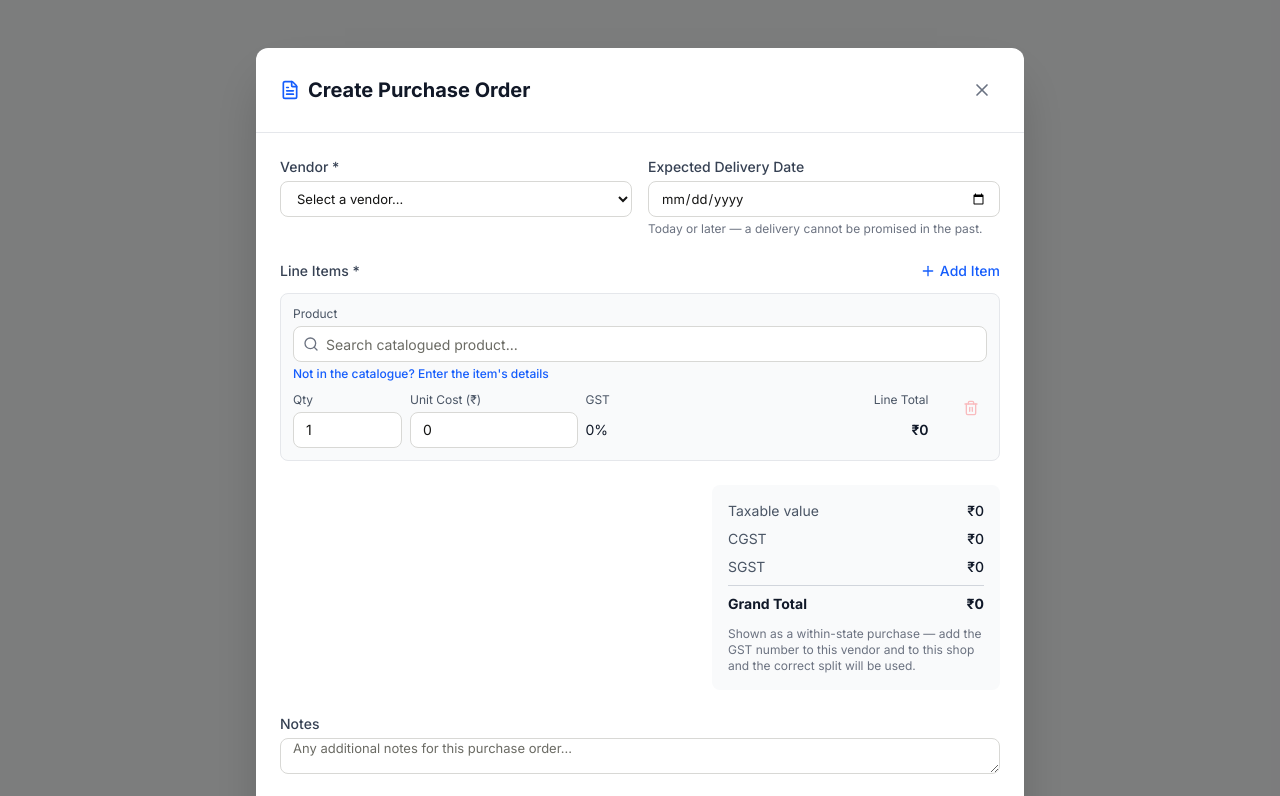
Test: Create PO screen shows the tax head the server resolved › server false: CGST + SGST, whatever the vendor GSTIN prefix says
The image size is (1280, 796).
Step 1. Select "Universal Optics (SUP004)" in the dropdown named "Vendor" → (456, 199), box [280,181,632,217]
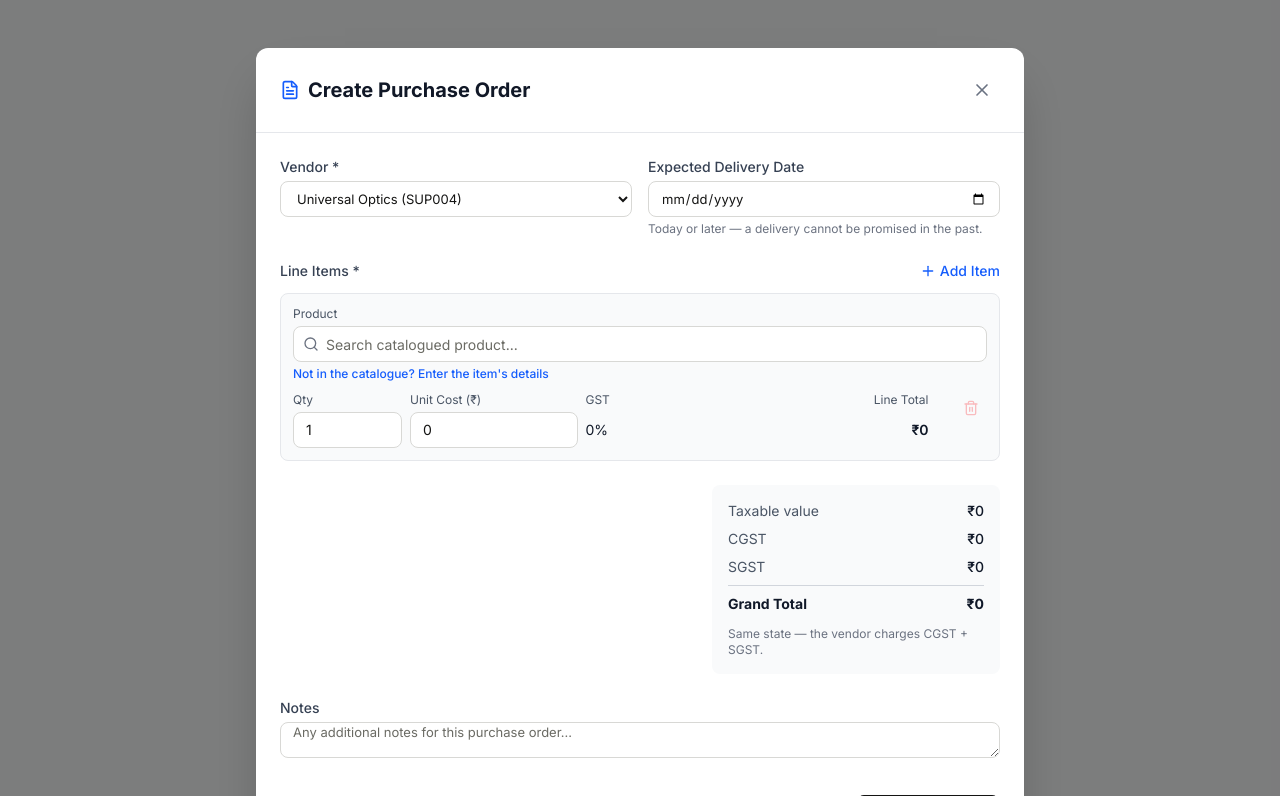
Expected: the text "Same state — the vendor charges CGST + SGST." is shown, [728,622,984,658]
